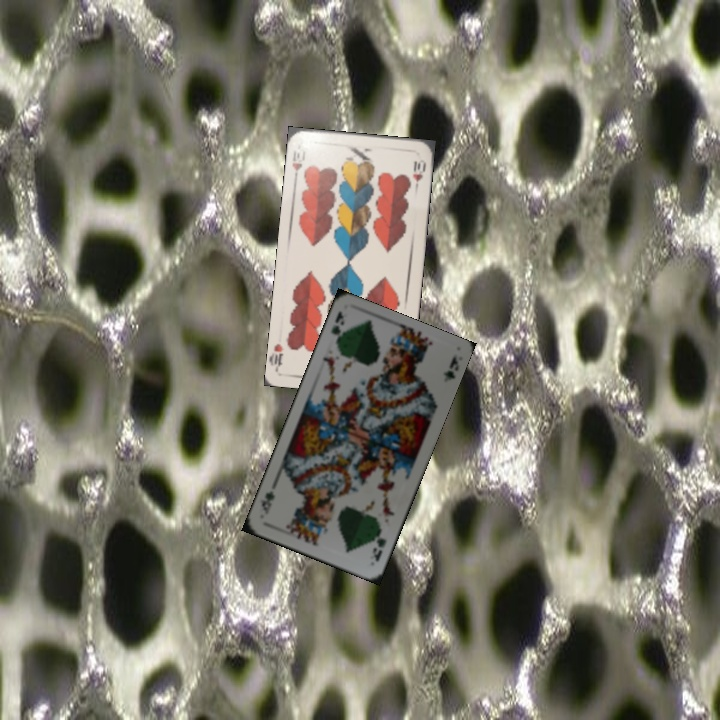GK: (327, 307, 347, 348), (368, 534, 389, 564)
H10: (288, 146, 308, 183)
